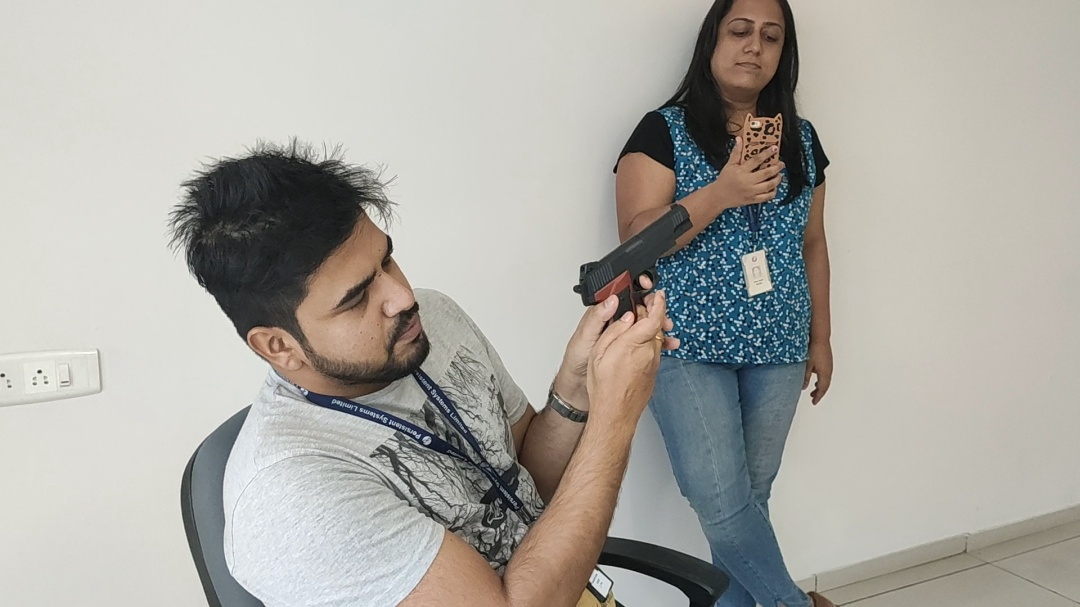gun: (572, 202, 693, 317)
